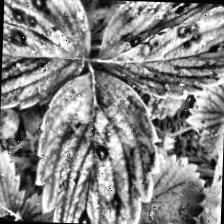Leaf Spot: (31, 68, 161, 224), (96, 0, 224, 100), (0, 0, 94, 114), (0, 133, 28, 220)
